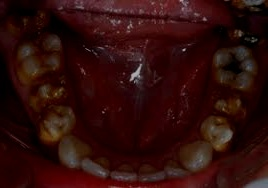Caries: (217, 45, 246, 81)
Tooth Discoloration: (207, 83, 243, 152), (31, 67, 66, 137)
